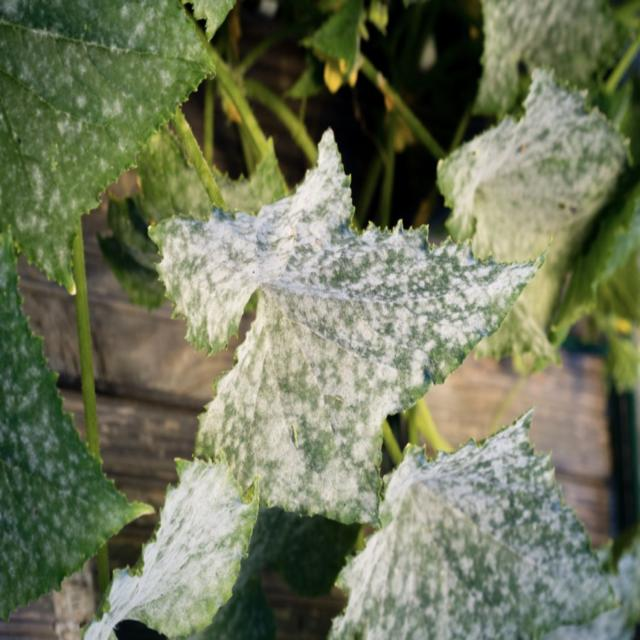Powdery Mildew: (108, 173, 483, 480), (327, 406, 638, 638), (435, 64, 631, 376), (82, 453, 260, 638), (472, 0, 620, 119)
